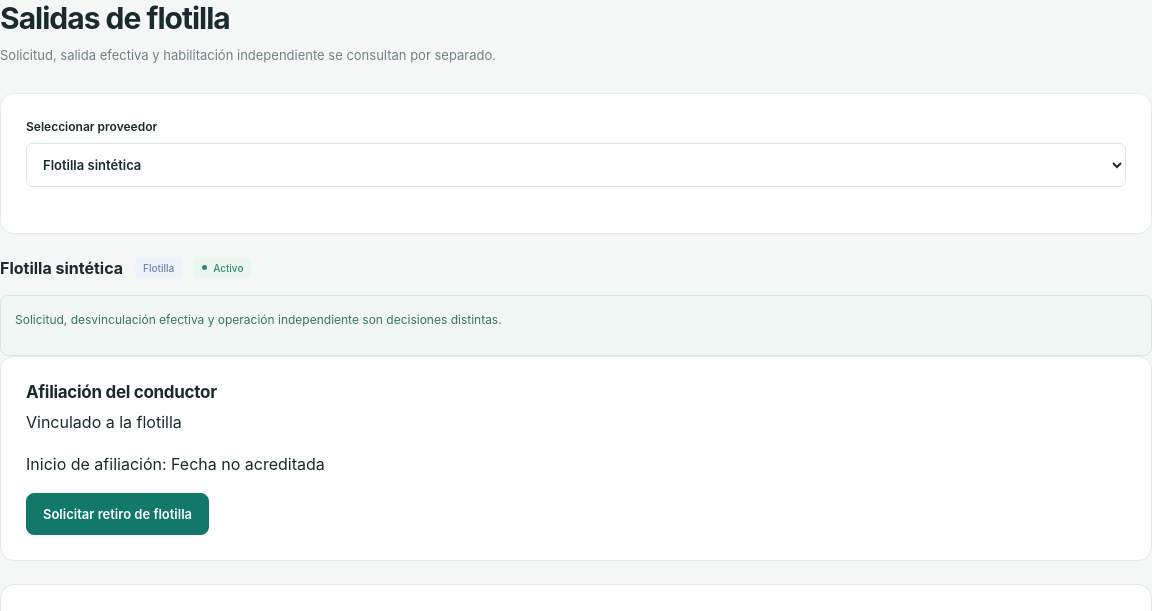
Test: OWNER uses capabilities and confirms exact frozen START before send
Click the button "Solicitar retiro de flotilla".
click(118, 514)  # box [26,493,209,535]
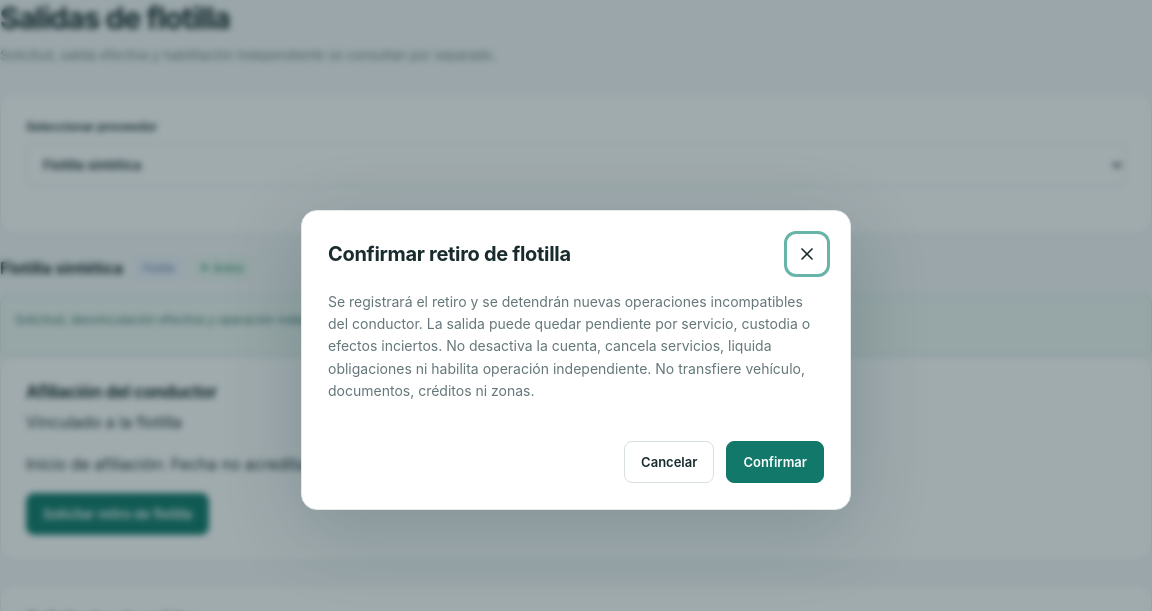
Expected: the dialog shows "No transfiere", [328,292,810,399]
Click the button "Confirmar".
click(775, 462)  # box [726,442,824,484]
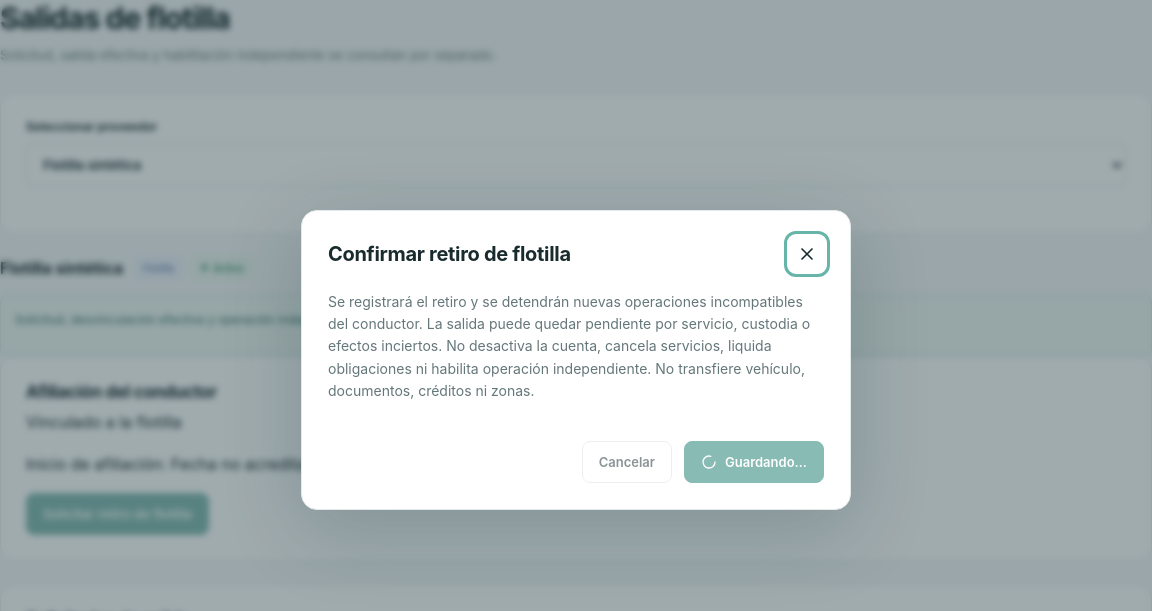
Click the button named "Confirmar".
click(754, 462)  # box [684,442,824,484]
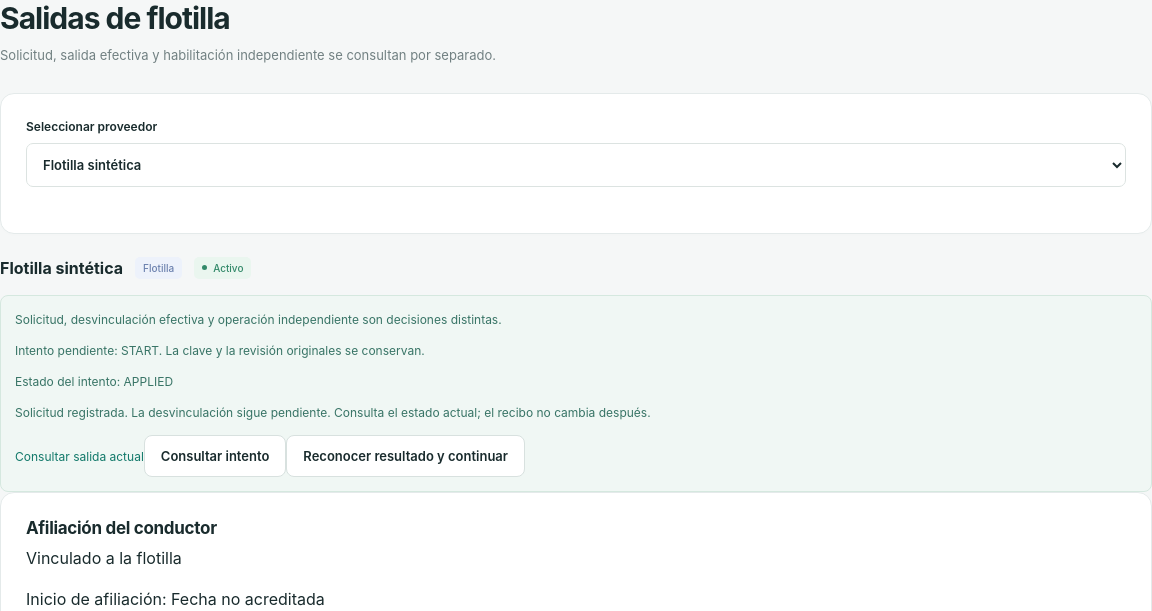
Expected: the text "Estado del intento: APPLIED" is shown, [15,374,173,389]
Expected: the text "Solicitud registrada. La desvinculación sigue pendiente" is shown, [15,405,331,420]
